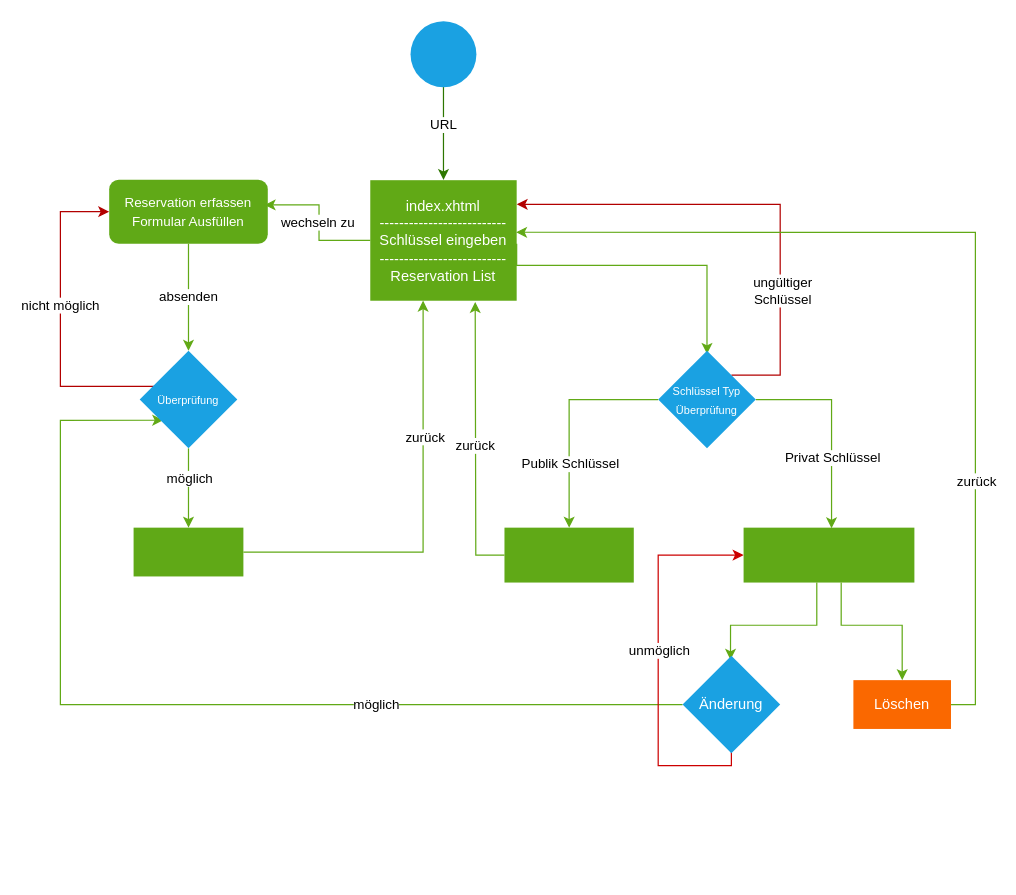
Image size: 1016x895. Some labels were removed from this diagram. The shapes that lost their labels are listed below. From the top down, each one's centre as x and y in pixels, then its label:
At point 188,551: "Bestätigung Anzeigen".
At point 568,554: "Publik Ansicht Termin einsehen".
At point 828,554: "Privat Ansicht Termin bearbeiten".
